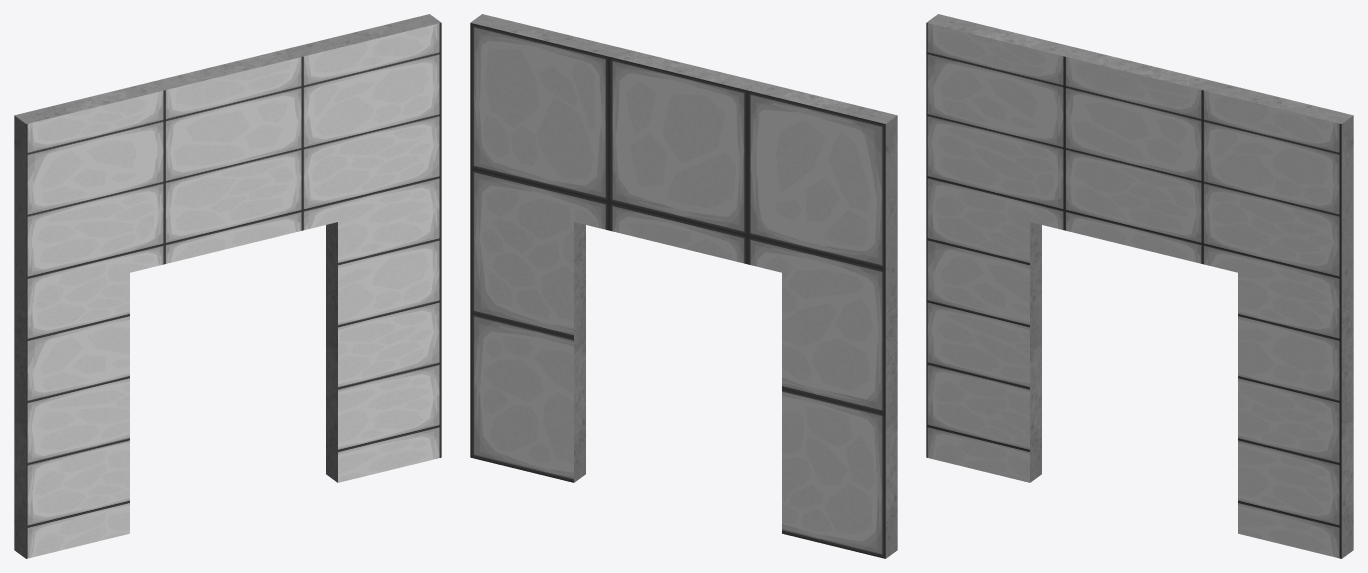
File: SM_Wall_Double_Door.fbx
3 renders of one model, left to right at view 1: azimuth 30°, elevation 25°; view 2: azimuth 150°, elevation 25°; view 3: azimuth 330°, elevation 25°, orthographic.
Parts seen in each view (by area): view 1: SM_Wall_Double_Door; view 2: SM_Wall_Double_Door; view 3: SM_Wall_Double_Door.
Part boxes in pixels (box(x1,y1,x2,y2)): SM_Wall_Double_Door: box(14, 14, 441, 558); SM_Wall_Double_Door: box(470, 14, 897, 558); SM_Wall_Double_Door: box(926, 14, 1353, 558).
Bounding box in the file's own units: 400 × 400 × 20.
